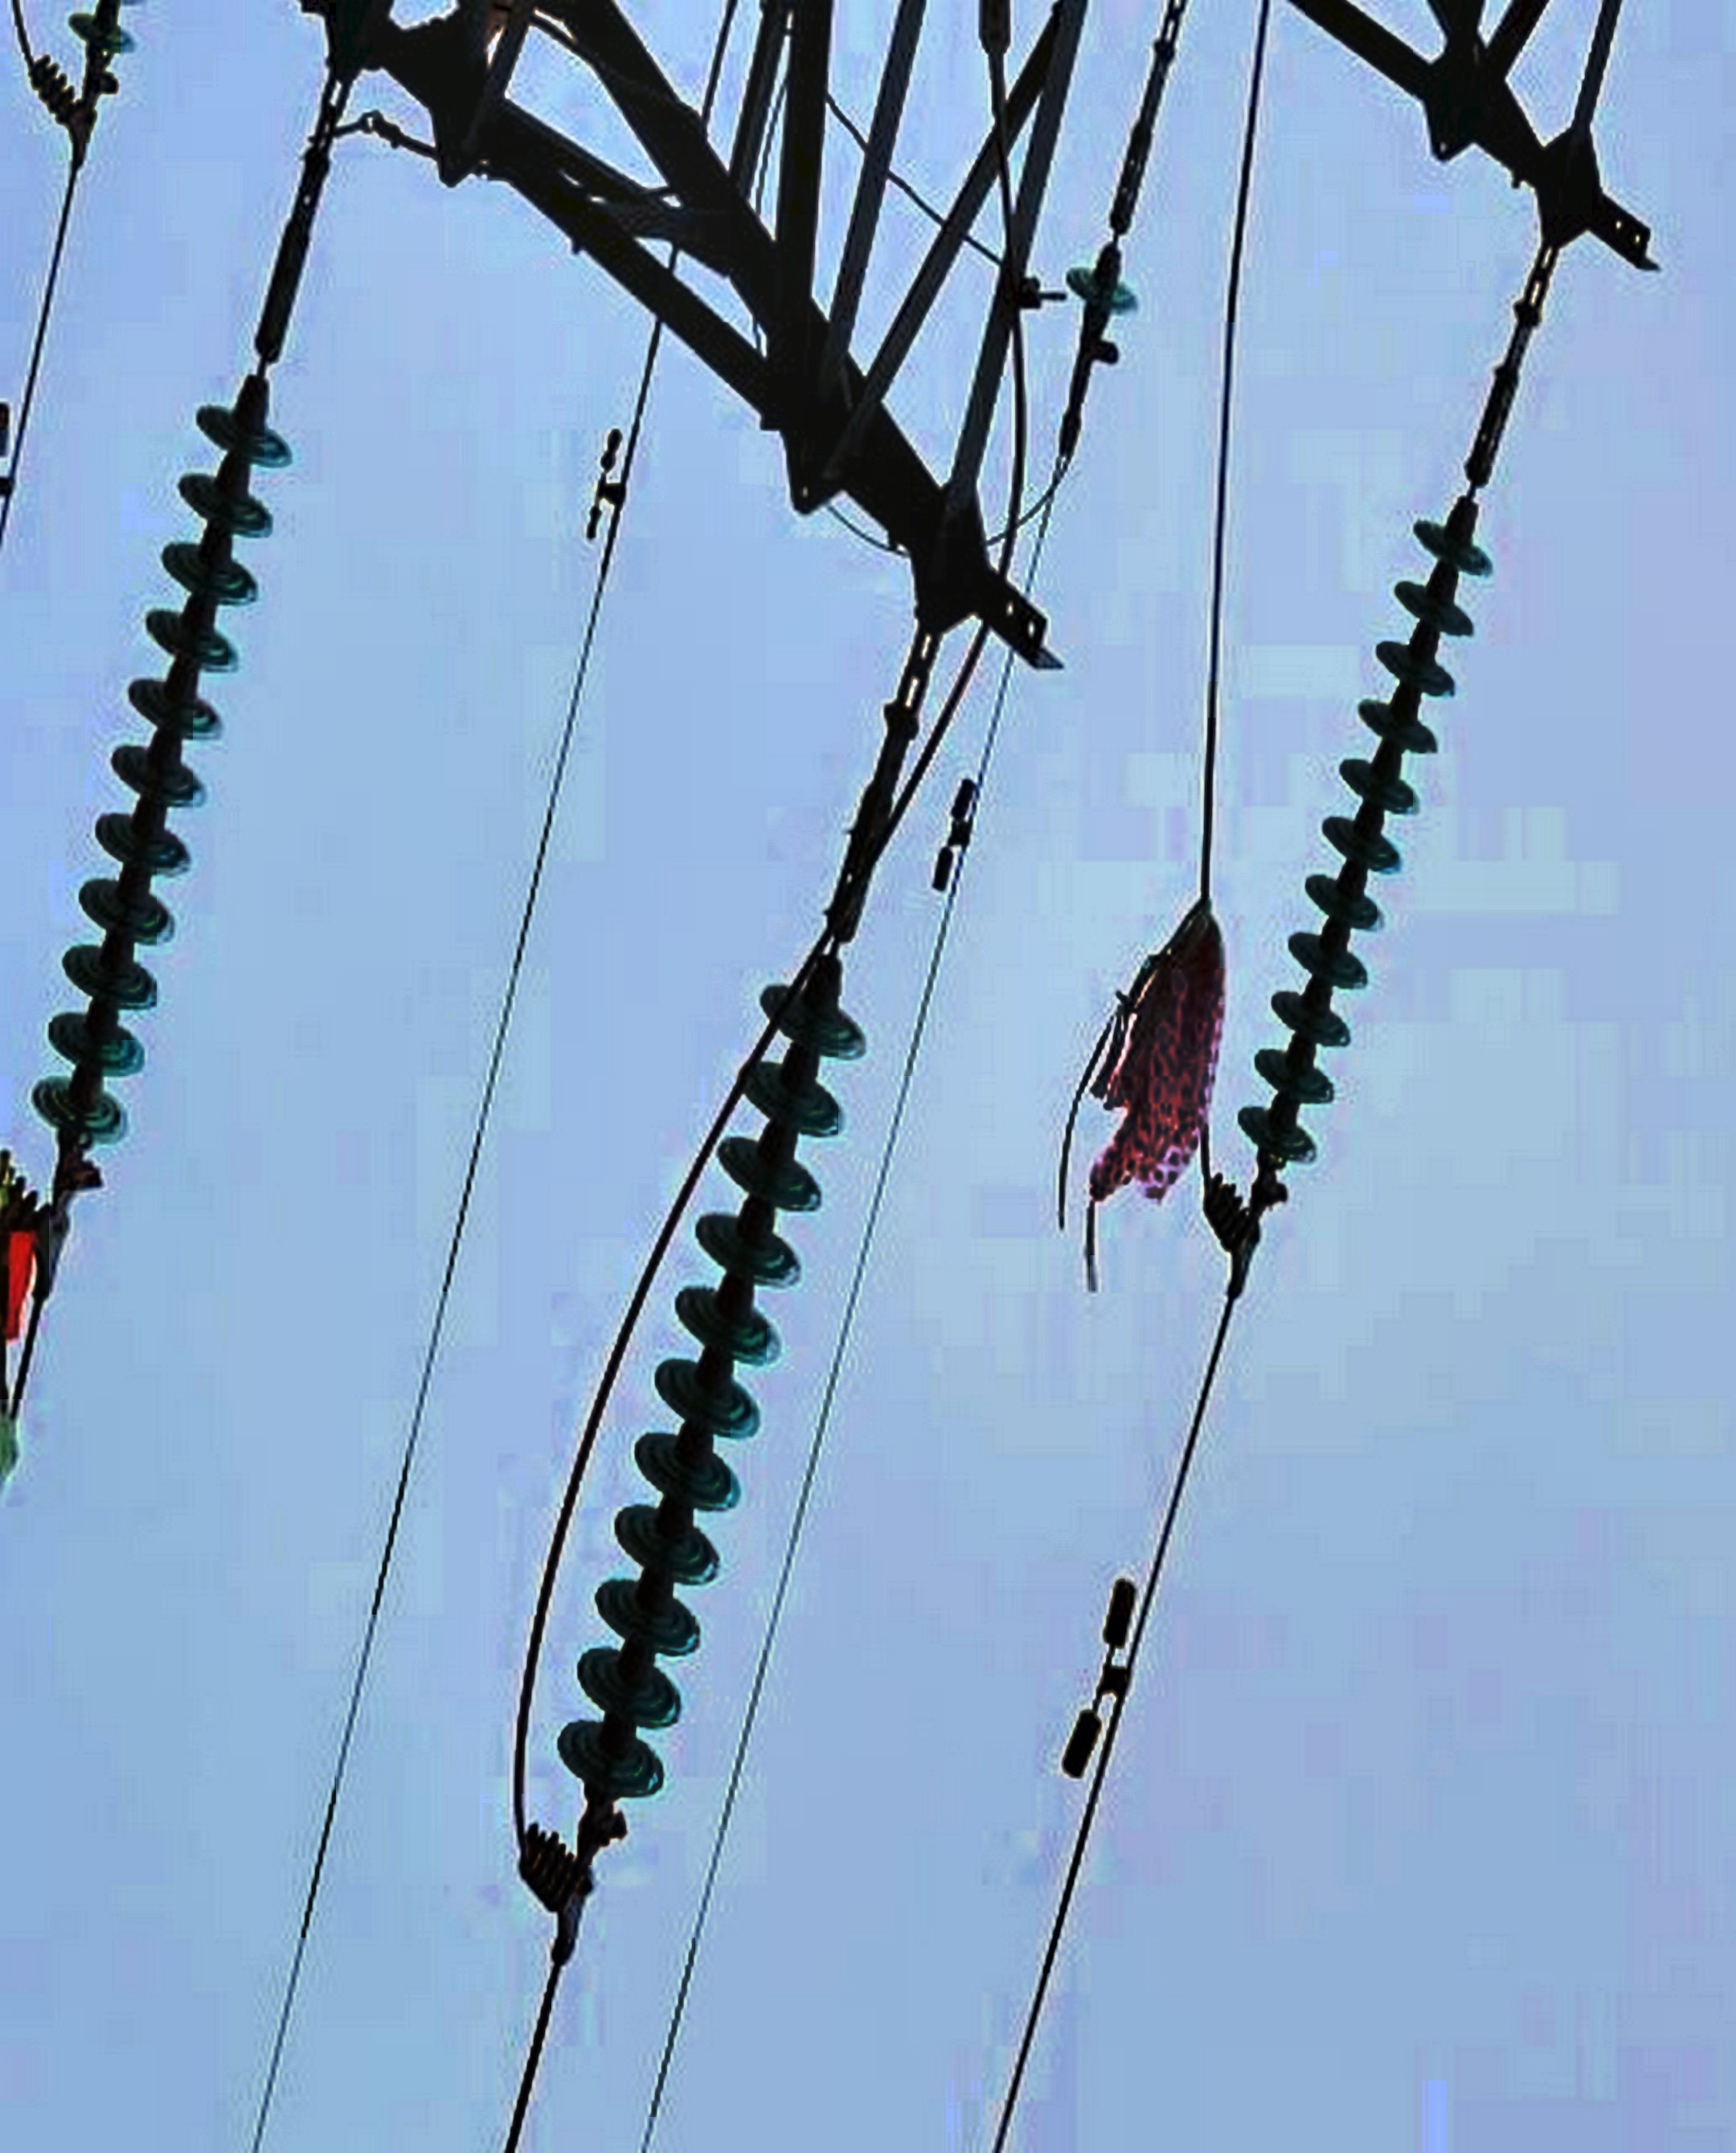wire foreign body: (1040, 871, 1277, 1280)
